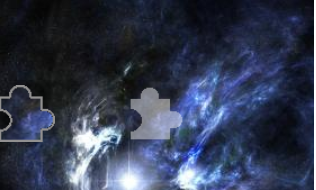target: (128, 86, 183, 140)
